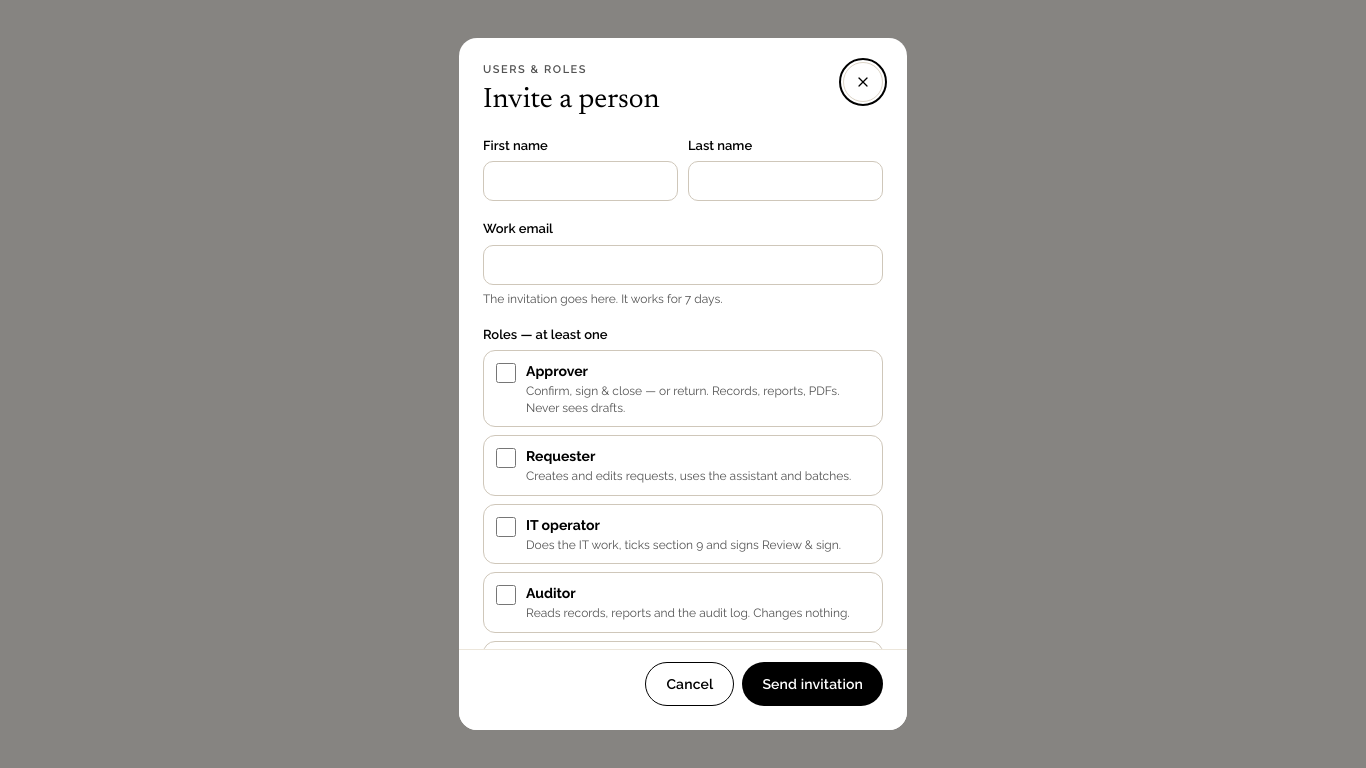
Test: Invitations (F18c) › a refusal stays in the sheet
This screenshot has width=1366, height=768.
Click the checkbox labelled "Auditor". click: coordinates (506, 595)
box: [496,585,516,605]
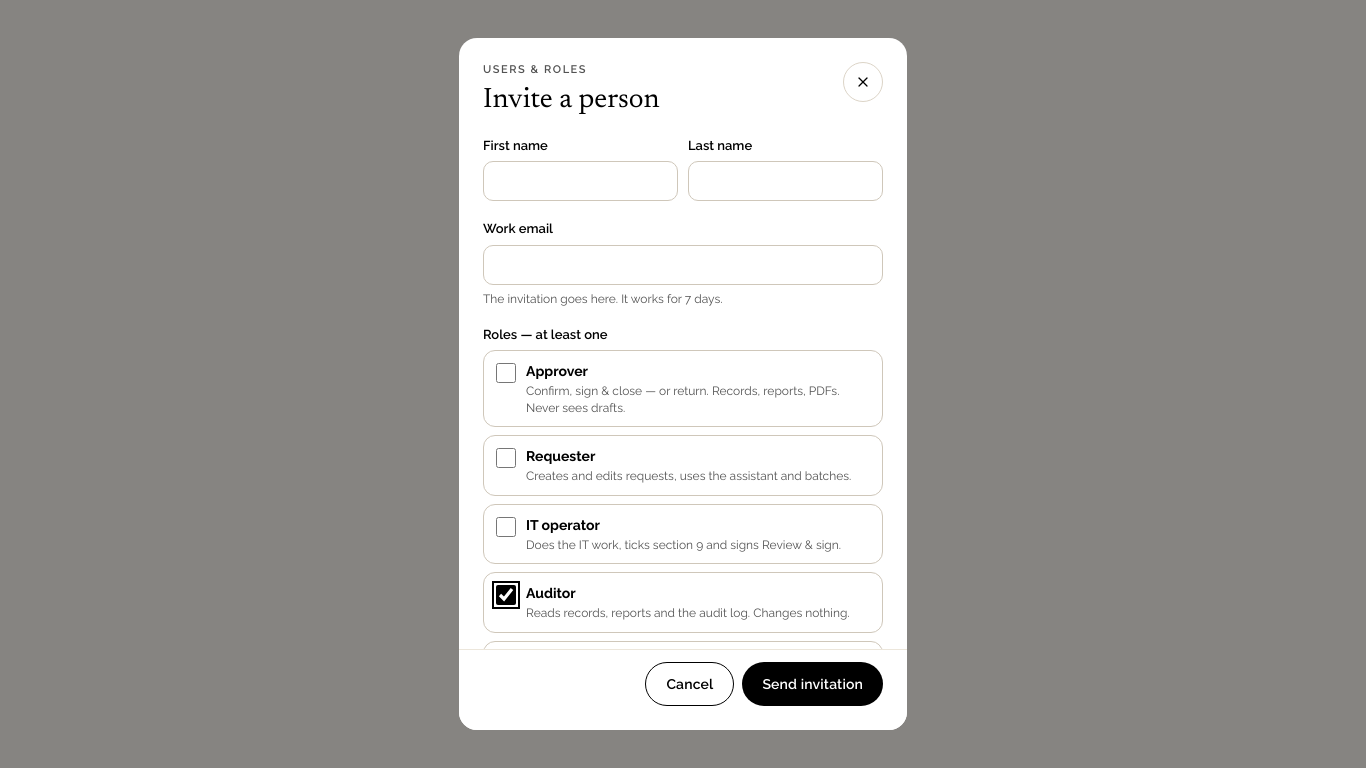
Click the button "Send invitation". click: coordinates (813, 684)
box: [742,662,883,706]
(page scrolled)
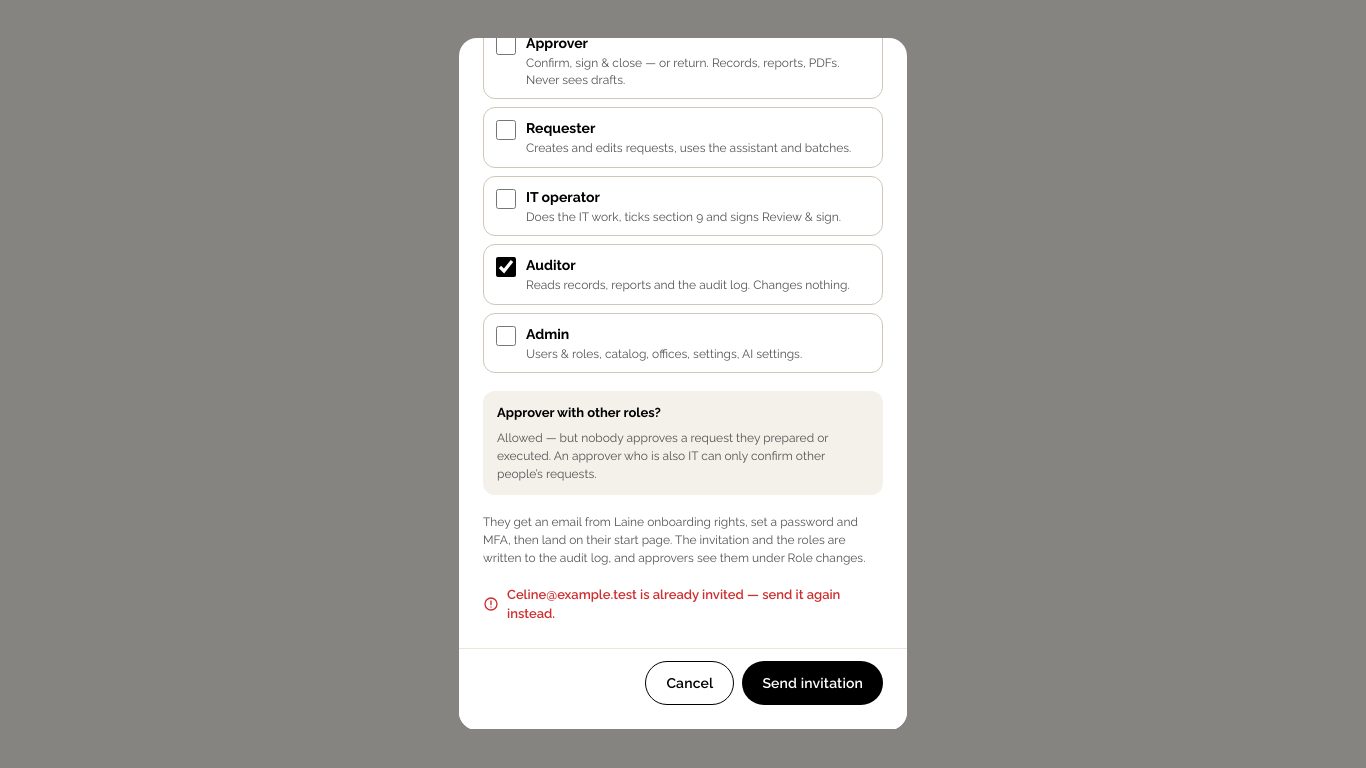
Expected: the text "already invited" is shown, [507,587,840,621]
